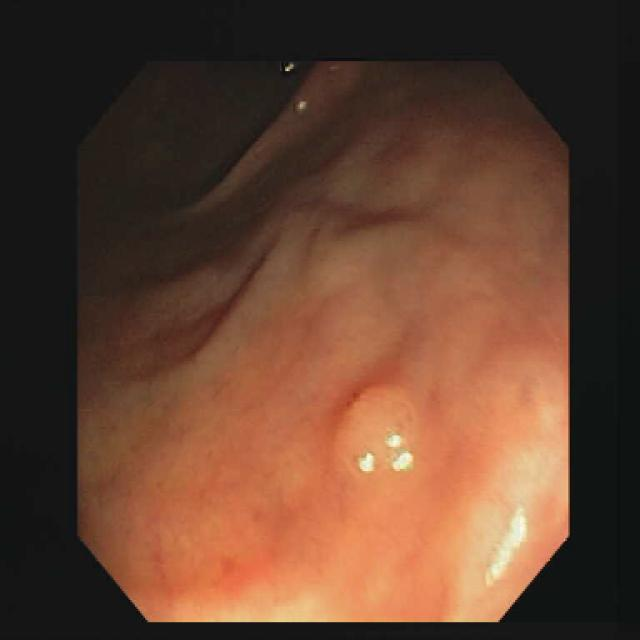tumor: (333, 384, 432, 471)
